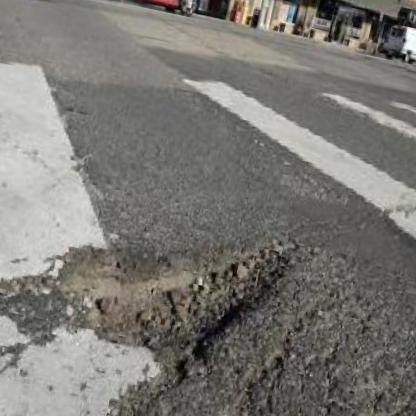pothole: (24, 180, 304, 399)
